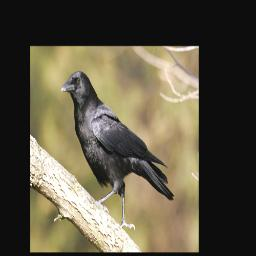Crow: (58, 69, 174, 234)
